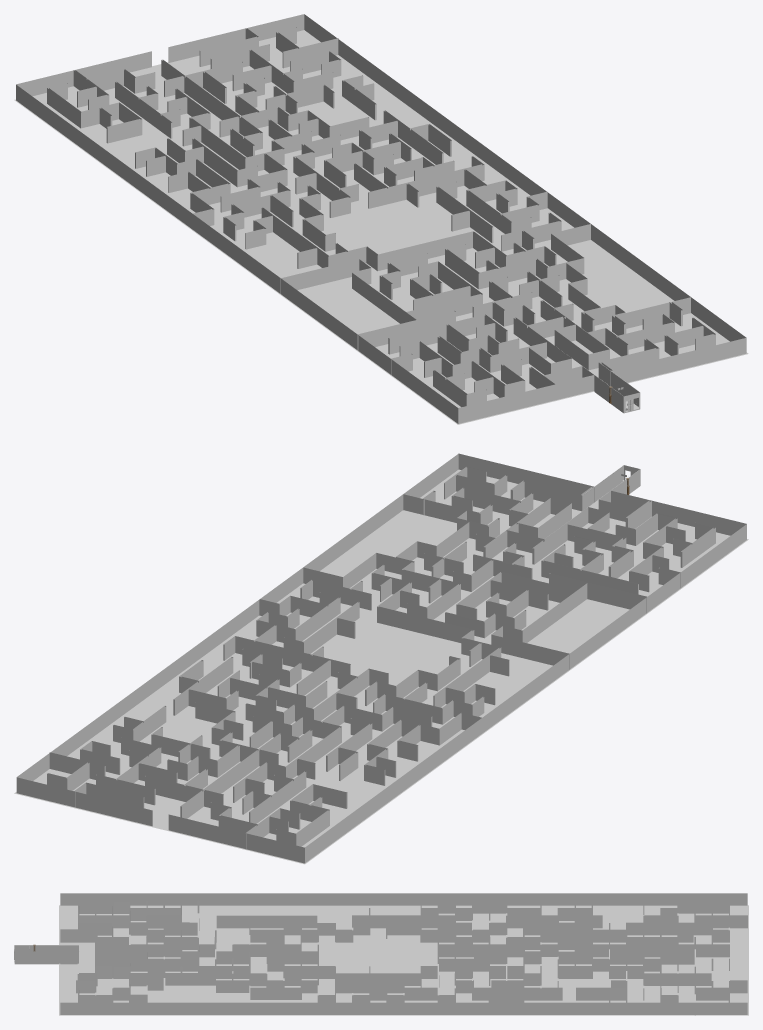
Rendered from Labirinto.fbx.
3 renders of one model, top to bottom at view 1: azimuth 30°, elevation 25°; view 2: azimuth 150°, elevation 25°; view 3: azimuth 270°, elevation 25°, orthographic. The views are drawn at different scales.
Visible parts, largest first — view 1: Plane, ParedeC 003.015, ParedeC 003.017, ParedeC 003.084, ParedeC 003.078, ParedeC 003.082, ParedeC 003.088, ParedeC 003.090, ParedeC 003.077, ParedeC 003.071, ParedeC 003.032, ParedeC 003.069 (+32 smaller); view 2: Plane, ParedeC 003.015, ParedeC 003.017, ParedeC 003.084, ParedeC 003.078, ParedeC 003.082, ParedeC 003.088, ParedeC 003.090, ParedeC 003.077, ParedeC 003.032, ParedeC 003.069, ParedeC 003.085 (+34 smaller); view 3: Plane, ParedeC 003.017, ParedeC 003.015, ParedeC 003.084, ParedeC 003.082, ParedeC 003.088, ParedeC 003.078, ParedeC 003.032, ParedeC 003.090, ParedeC 003.087, ParedeC 003.069, ParedeC 003.085 (+36 smaller).
Part boxes in pixels (x1,y1,x2,y2): Plane: [14, 30, 748, 424]; ParedeC 003.015: [16, 84, 458, 423]; ParedeC 003.017: [304, 14, 746, 341]; ParedeC 003.084: [161, 59, 369, 157]; ParedeC 003.078: [245, 207, 556, 271]; ParedeC 003.082: [354, 156, 547, 233]; ParedeC 003.088: [167, 88, 311, 212]; ParedeC 003.090: [135, 147, 230, 229]; ParedeC 003.077: [406, 261, 482, 319]; ParedeC 003.071: [388, 314, 519, 355]; ParedeC 003.032: [445, 234, 584, 289]; ParedeC 003.069: [399, 341, 525, 397]; Plane: [14, 469, 748, 864]; ParedeC 003.015: [305, 524, 746, 862]; ParedeC 003.017: [17, 454, 458, 780]; ParedeC 003.084: [145, 702, 312, 818]; ParedeC 003.078: [371, 564, 509, 707]; ParedeC 003.082: [223, 592, 350, 695]; ParedeC 003.088: [233, 705, 432, 802]; ParedeC 003.090: [364, 712, 482, 785]; ParedeC 003.077: [456, 572, 576, 619]; ParedeC 003.032: [343, 553, 460, 619]; ParedeC 003.069: [615, 513, 685, 592]; ParedeC 003.085: [245, 668, 388, 724]; Plane: [59, 905, 748, 1015]; ParedeC 003.017: [60, 1002, 747, 1014]; ParedeC 003.015: [60, 893, 747, 905]; ParedeC 003.084: [557, 937, 729, 987]; ParedeC 003.082: [335, 951, 489, 1014]; ParedeC 003.088: [489, 908, 678, 965]; ParedeC 003.078: [266, 901, 455, 987]; ParedeC 003.032: [249, 951, 318, 999]; ParedeC 003.090: [472, 900, 592, 928]; ParedeC 003.087: [472, 973, 562, 1002]; ParedeC 003.069: [78, 901, 181, 936]; ParedeC 003.085: [437, 936, 541, 973].
Size of the model in its own units: 5919 by 330 by 16663.
